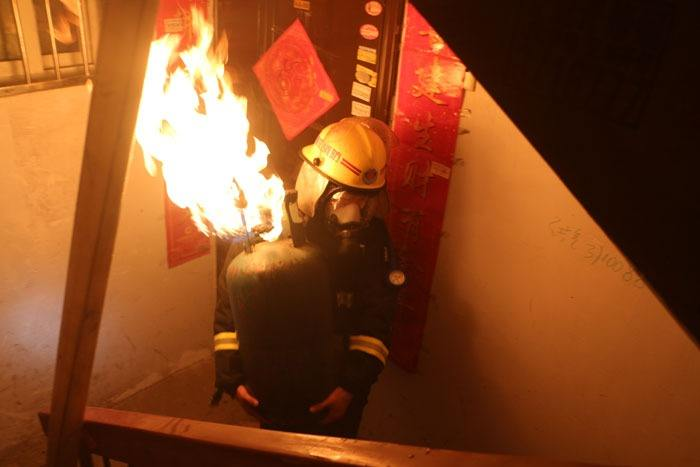fire: (134, 39, 297, 238)
